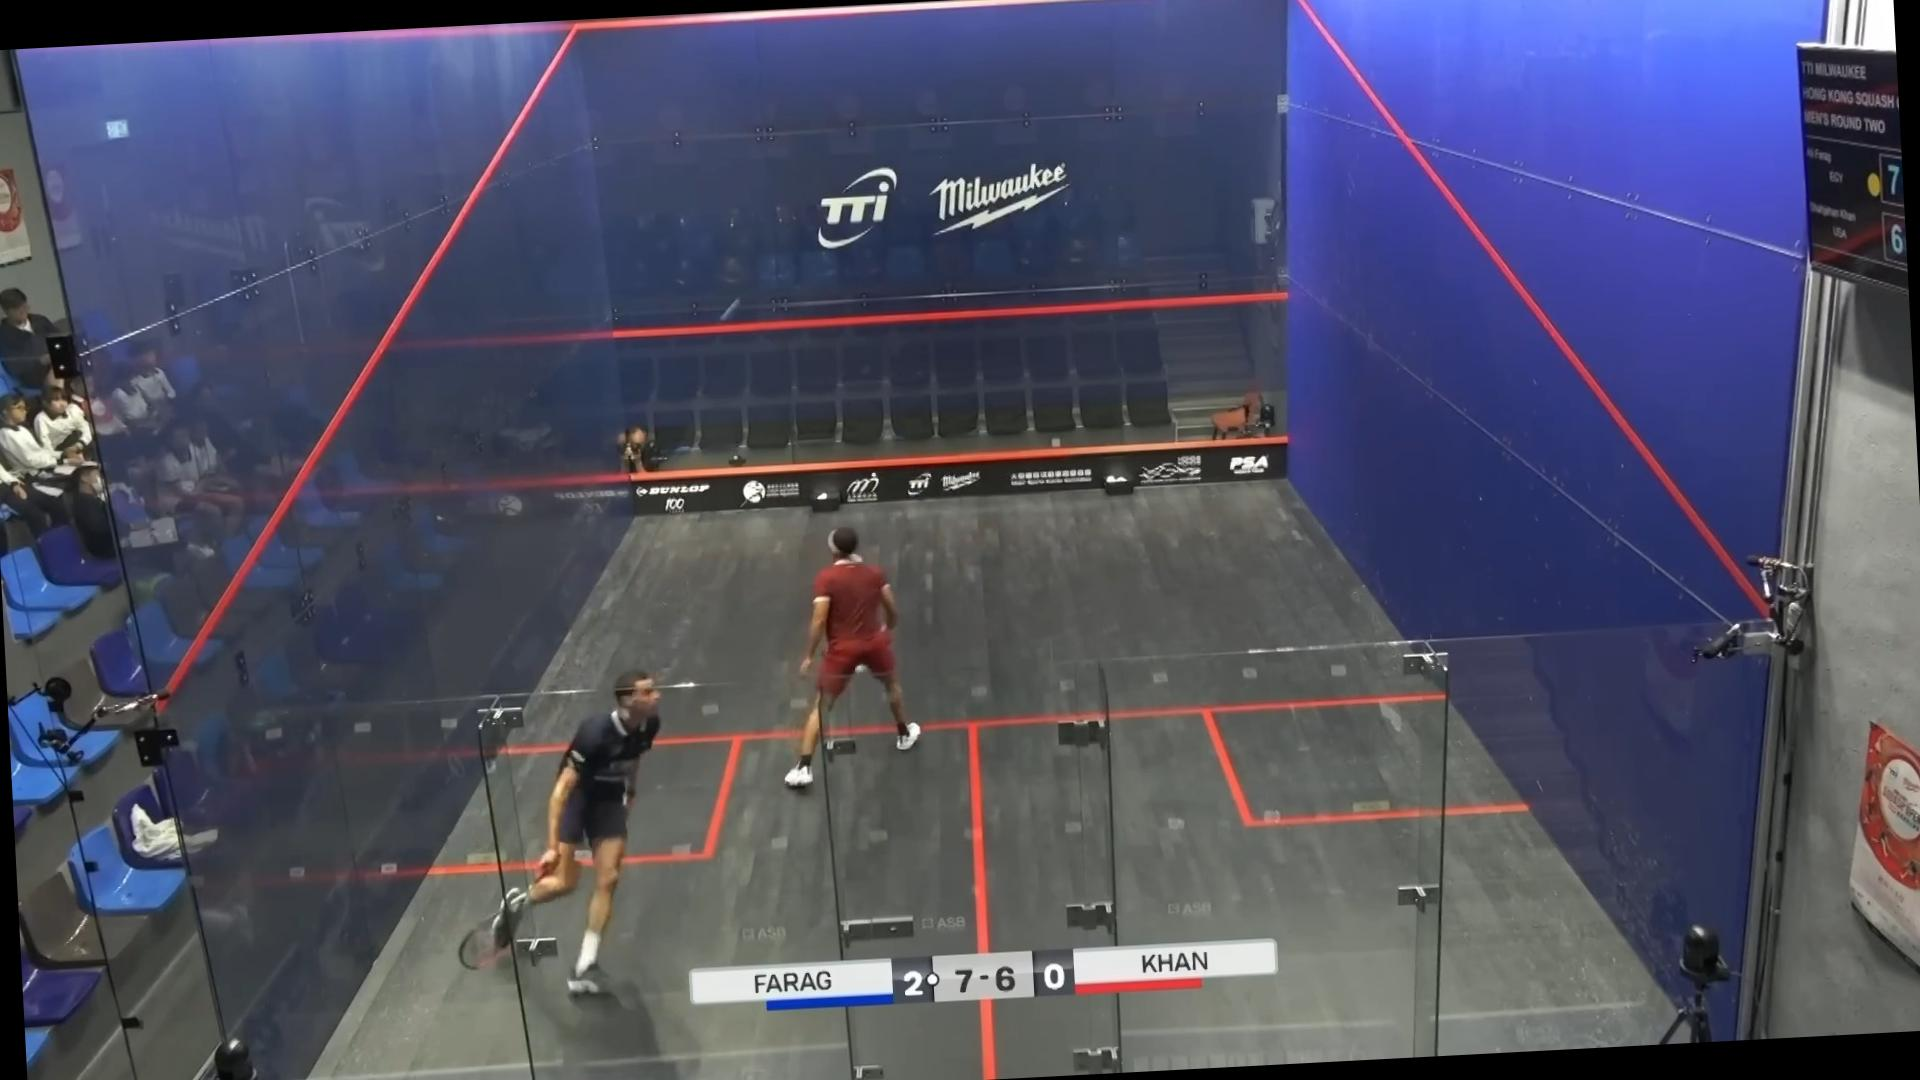Racket: (451, 891, 537, 973)
